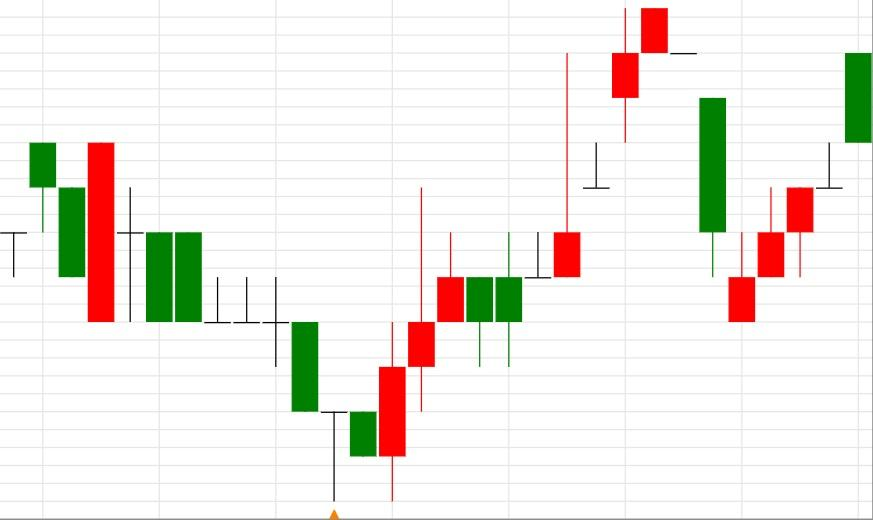bullish_engulfing_rise: (28, 142, 407, 501)
three_white_soldiers_rise: (28, 142, 465, 502), (641, 7, 814, 323)
